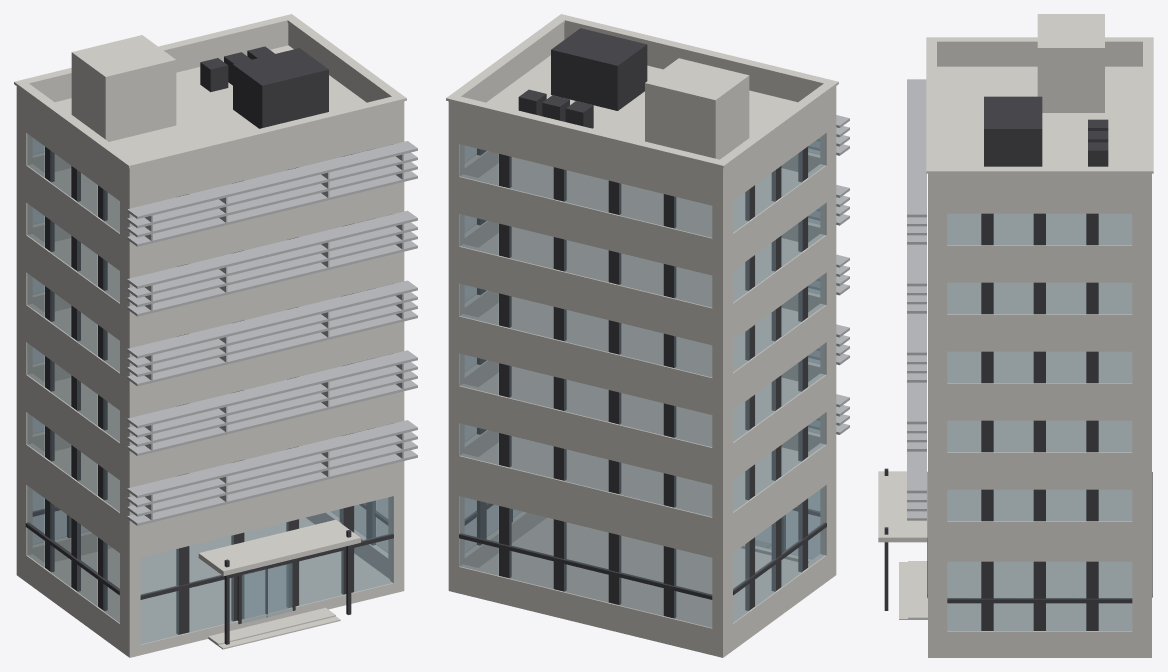
3 views of the same model, side by side, from view 1: azimuth 30°, elevation 25°; view 2: azimuth 150°, elevation 25°; view 3: azimuth 270°, elevation 25° (orthographic).
Parts seen in each view (by area): view 1: F01_Slab, Roof_Slab, Roof_Stair_Penthouse, Roof_Parapet_Front, Roof_Plant_Room, F05_Slab, F04_Slab, F06_Slab, F03_Slab, F02_Slab, Ent_Canopy, F01_Front_Header (+96 smaller); view 2: F01_Slab, F05_Slab, F03_Slab, F04_Slab, F06_Slab, F02_Slab, Roof_Stair_Penthouse, Roof_Slab, Roof_Parapet_Back, F01_Back_Spandrel, F04_Back_Spandrel, F05_Back_Spandrel (+105 smaller); view 3: Roof_Slab, F01_Slab, Roof_Stair_Penthouse, F02_Slab, F03_Slab, F04_Slab, F05_Slab, F06_Slab, Roof_Parapet_Right, F02_Right_Spandrel, F03_Right_Spandrel, F04_Right_Spandrel (+85 smaller).
Boxes of the visible parts, box(x1,y1,x2,y2) form: F01_Slab: box(16, 517, 404, 657); Roof_Slab: box(16, 45, 404, 197); Roof_Stair_Penthouse: box(71, 35, 176, 141); Roof_Parapet_Front: box(126, 101, 404, 190); Roof_Plant_Room: box(233, 48, 328, 128); F05_Slab: box(16, 227, 404, 337); F04_Slab: box(16, 297, 404, 407); F06_Slab: box(16, 157, 404, 267); F03_Slab: box(16, 366, 404, 477); F02_Slab: box(16, 436, 404, 546); Ent_Canopy: box(198, 519, 360, 576); F01_Front_Header: box(126, 480, 404, 560); F01_Slab: box(448, 517, 836, 657); F05_Slab: box(448, 227, 836, 337); F03_Slab: box(448, 366, 836, 477); F04_Slab: box(448, 296, 836, 407); F06_Slab: box(448, 157, 836, 267); F02_Slab: box(448, 436, 836, 546); Roof_Stair_Penthouse: box(645, 58, 749, 159); Roof_Slab: box(448, 55, 836, 197); Roof_Parapet_Back: box(448, 101, 726, 190); F01_Back_Spandrel: box(448, 564, 726, 650); F04_Back_Spandrel: box(448, 314, 726, 400); F05_Back_Spandrel: box(448, 244, 726, 330); Roof_Slab: box(928, 66, 1151, 203); F01_Slab: box(928, 561, 1151, 657); Roof_Stair_Penthouse: box(1037, 14, 1104, 112); F02_Slab: box(928, 489, 1151, 548); F03_Slab: box(928, 420, 1151, 479); F04_Slab: box(928, 351, 1151, 410); F05_Slab: box(928, 282, 1151, 341); F06_Slab: box(928, 213, 1151, 272); Roof_Parapet_Right: box(935, 173, 1144, 196); F02_Right_Spandrel: box(935, 519, 1144, 541); F03_Right_Spandrel: box(935, 450, 1144, 472); F04_Right_Spandrel: box(935, 381, 1144, 403).
Size of what is drawn, in the model's own units: 14.3 by 25.95 by 12.3.
